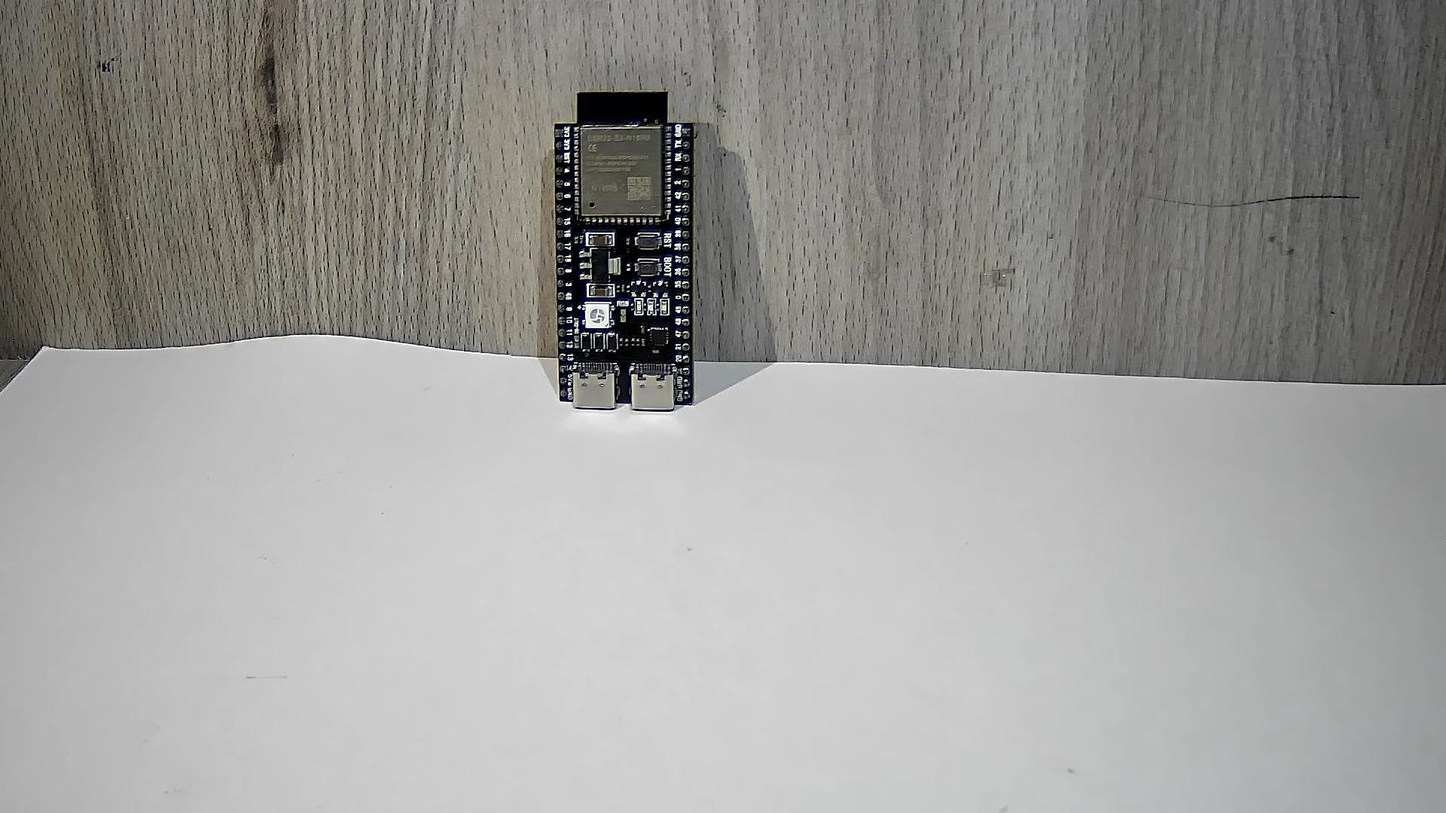ESP32: (520, 51, 756, 450)
